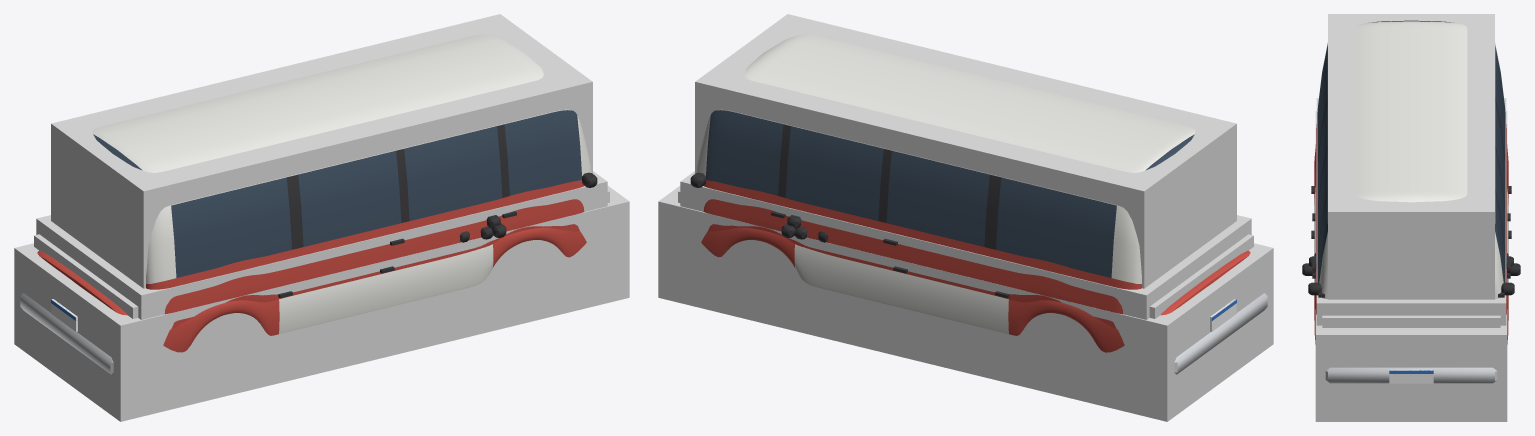
Rendered from cars.glb.
The picture shows the model from 3 angles, left to right: view 1: azimuth 30°, elevation 25°; view 2: azimuth 150°, elevation 25°; view 3: azimuth 270°, elevation 25°; orthographic projection. The views are drawn at different scales.
Parts seen in each view (by area): view 1: Car_perua, Col_seda_0, Col_perua_1, Car_seda, Col_perua_0, Col_picape_0; view 2: Car_perua, Col_seda_0, Col_perua_1, Car_seda, Col_perua_0, Col_picape_0; view 3: Col_perua_1, Car_perua, Col_seda_0, Col_perua_0, Car_seda, Col_picape_0.
Part boxes in pixels (x1,y1,x2,y2): Car_perua: (92, 34, 597, 328); Col_seda_0: (14, 185, 629, 421); Col_perua_1: (51, 14, 592, 288); Car_seda: (20, 223, 586, 374); Col_perua_0: (36, 171, 607, 319); Col_picape_0: (34, 190, 609, 318); Car_perua: (690, 34, 1195, 328); Col_seda_0: (658, 185, 1273, 421); Col_perua_1: (695, 14, 1236, 288); Car_seda: (701, 223, 1267, 374); Col_perua_0: (680, 171, 1251, 319); Col_picape_0: (678, 190, 1253, 318); Col_perua_1: (1328, 14, 1494, 299); Car_perua: (1308, 20, 1514, 326); Col_seda_0: (1315, 111, 1507, 421); Col_perua_0: (1316, 98, 1506, 325); Car_seda: (1302, 149, 1520, 383); Col_picape_0: (1322, 315, 1500, 327).
Bounding box in the file's own units: 4.84 × 1.98 × 1.96.
